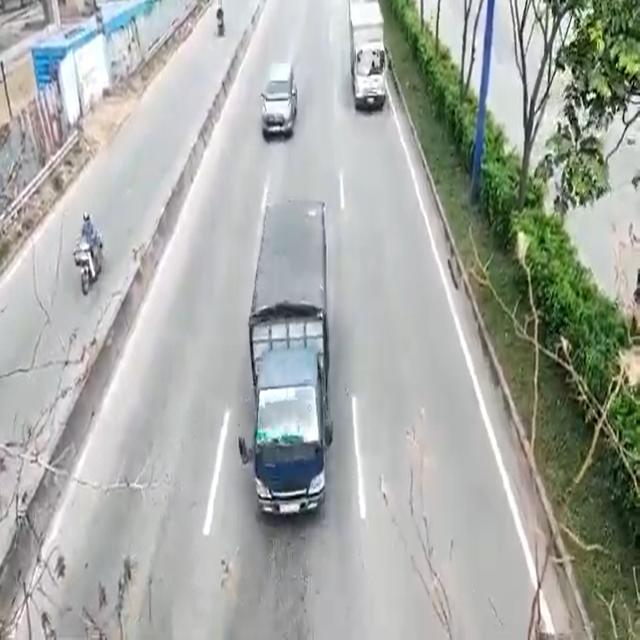car: (260, 62, 295, 140)
motor: (73, 236, 103, 294), (215, 12, 226, 41)
truck: (258, 196, 324, 526), (349, 0, 386, 112)
